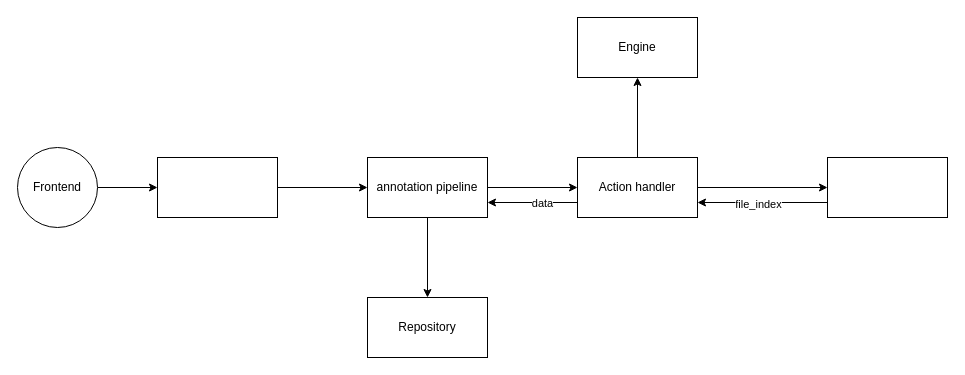
Image size: 965x375. Some labels were removed from this diagram. Here are the shapes that lost their labels. From the top down, the centre of each, then its label:
At pixel 217 187: "Factory".
At pixel 887 187: "Navigator".
